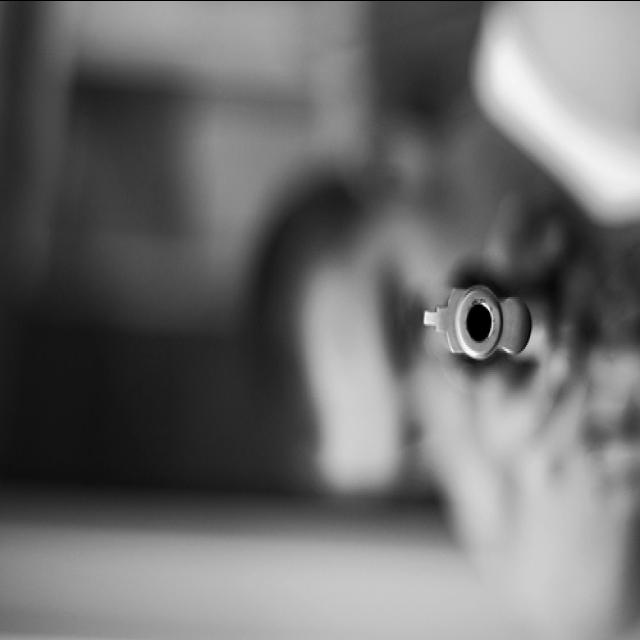handgun: (418, 264, 550, 384)
